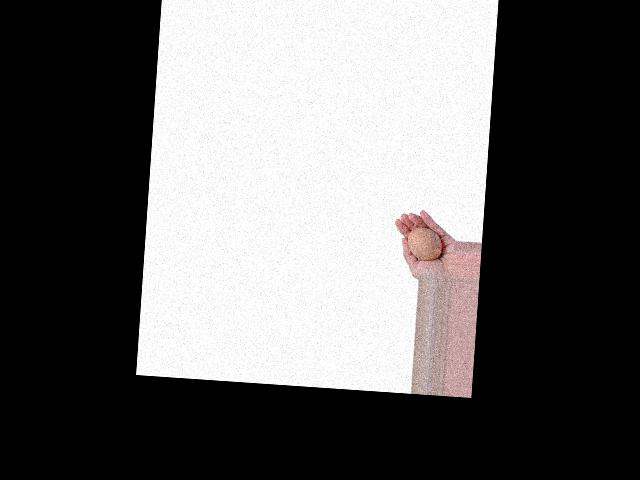egg: (406, 226, 443, 261)
